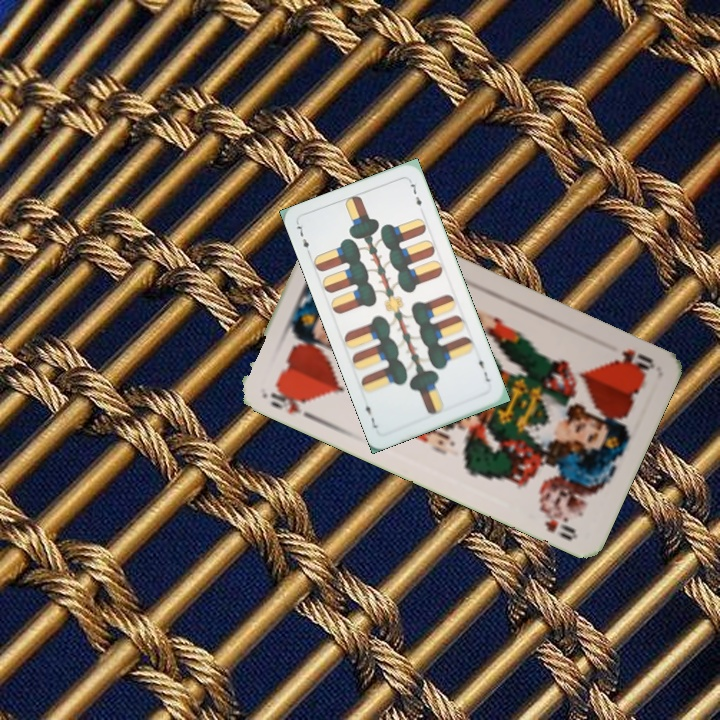E7: (293, 220, 313, 259), (474, 352, 493, 385)
HO: (265, 382, 313, 417), (611, 345, 657, 376)
